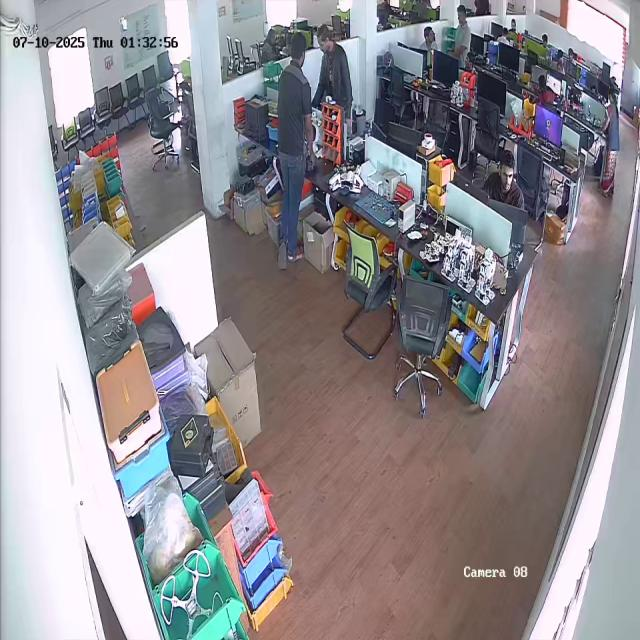person: (269, 31, 314, 265), (314, 23, 354, 120)
